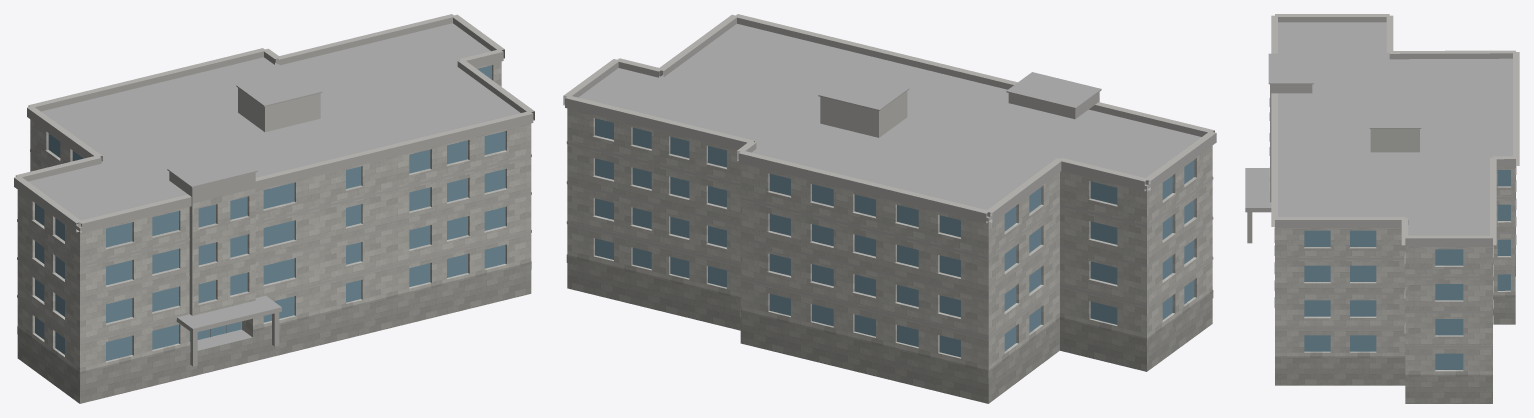
3 views of the same model, side by side, from view 1: azimuth 30°, elevation 25°; view 2: azimuth 150°, elevation 25°; view 3: azimuth 270°, elevation 25° (orthographic). The views are drawn at different scales.
Parts seen in each view (by area): view 1: energyEnvCenterN28__wall, energyEnvCenterN28__roof, energyEnvCenterN28__trim, energyEnvCenterN28__glass, energyEnvCenterN28__base, energyEnvCenterN28__wall2, energyEnvCenterN28__column; view 2: energyEnvCenterN28__wall, energyEnvCenterN28__roof, energyEnvCenterN28__trim, energyEnvCenterN28__base, energyEnvCenterN28__glass, energyEnvCenterN28__wall2; view 3: energyEnvCenterN28__roof, energyEnvCenterN28__wall, energyEnvCenterN28__trim, energyEnvCenterN28__base, energyEnvCenterN28__glass, energyEnvCenterN28__wall2.
Part boxes in pixels (x1=…): energyEnvCenterN28__wall: x1=17, y1=61, x2=531, y2=379; energyEnvCenterN28__roof: x1=28, y1=23, x2=520, y2=352; energyEnvCenterN28__trim: x1=14, y1=14, x2=534, y2=342; energyEnvCenterN28__glass: x1=35, y1=65, x2=505, y2=360; energyEnvCenterN28__base: x1=17, y1=261, x2=531, y2=403; energyEnvCenterN28__wall2: x1=238, y1=88, x2=320, y2=131; energyEnvCenterN28__column: x1=190, y1=312, x2=279, y2=366; energyEnvCenterN28__wall: x1=567, y1=108, x2=1212, y2=377; energyEnvCenterN28__roof: x1=578, y1=24, x2=1201, y2=218; energyEnvCenterN28__trim: x1=563, y1=14, x2=1216, y2=339; energyEnvCenterN28__base: x1=566, y1=254, x2=1213, y2=403; energyEnvCenterN28__glass: x1=595, y1=118, x2=1194, y2=357; energyEnvCenterN28__wall2: x1=820, y1=91, x2=907, y2=137; energyEnvCenterN28__roof: x1=1245, y1=22, x2=1515, y2=253; energyEnvCenterN28__wall: x1=1275, y1=167, x2=1515, y2=374; energyEnvCenterN28__trim: x1=1245, y1=14, x2=1519, y2=347; energyEnvCenterN28__base: x1=1275, y1=254, x2=1515, y2=403; energyEnvCenterN28__glass: x1=1304, y1=170, x2=1510, y2=369; energyEnvCenterN28__wall2: x1=1370, y1=129, x2=1419, y2=152.
Bounding box in the file's own units: 53.85 × 20.9 × 27.8.
Materials: 9 (2 with a texture image).
